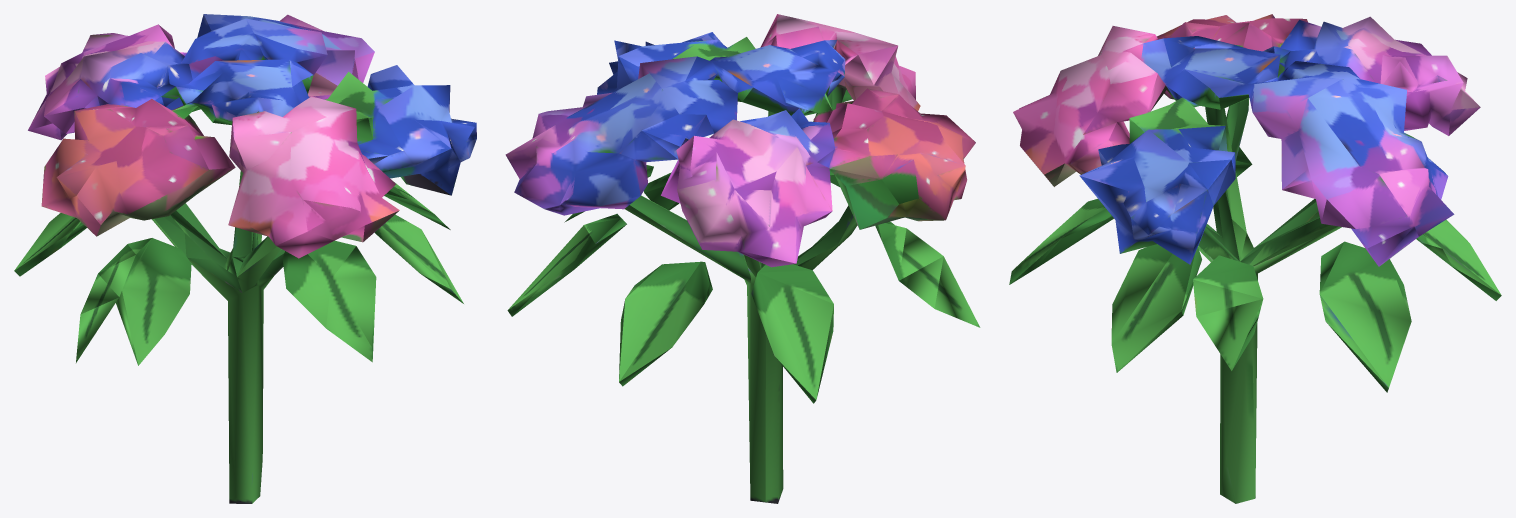
File: hydrangea-bush.glb
3 renders of one model, left to right at view 1: azimuth 30°, elevation 25°; view 2: azimuth 150°, elevation 25°; view 3: azimuth 270°, elevation 25°, orthographic. The views are drawn at different scales.
Parts seen in each view (by area): view 1: geometry_0; view 2: geometry_0; view 3: geometry_0.
Part boxes in pixels (left/top/right/bottom): geometry_0: left=14, top=14, right=476, bottom=503; geometry_0: left=505, top=14, right=980, bottom=503; geometry_0: left=1009, top=14, right=1501, bottom=503.
Bounding box in the file's own units: 0.9465 × 0.9928 × 0.9867.
1 material, 1 textured.
